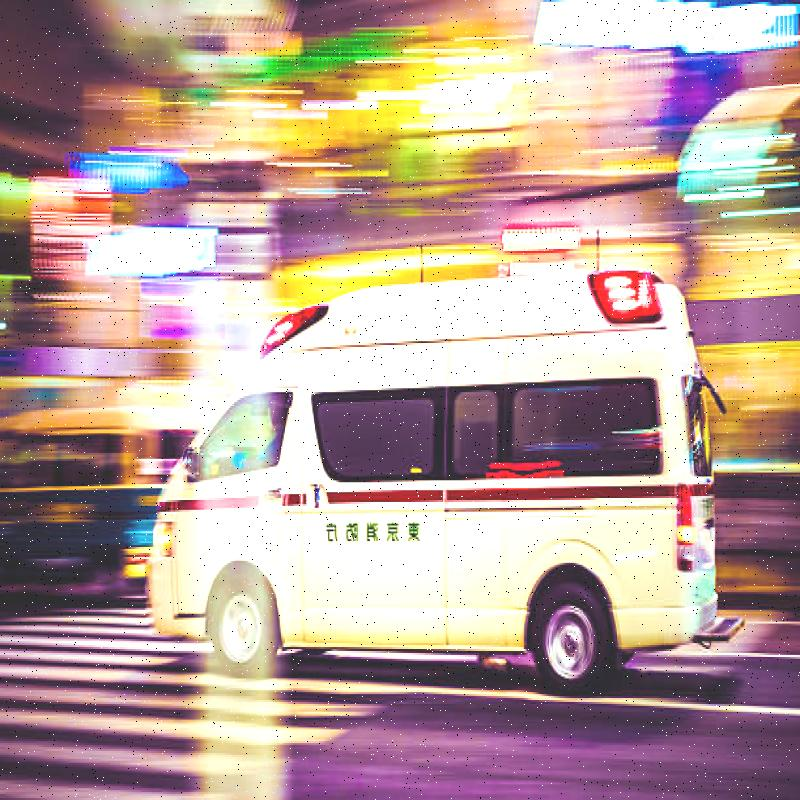ambulance: (142, 190, 749, 717)
